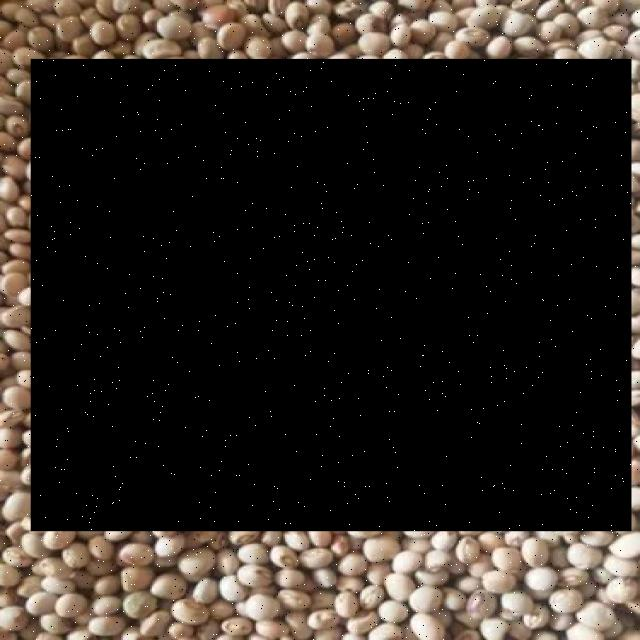Rahar_ko_Daal: (31, 59, 632, 532)
